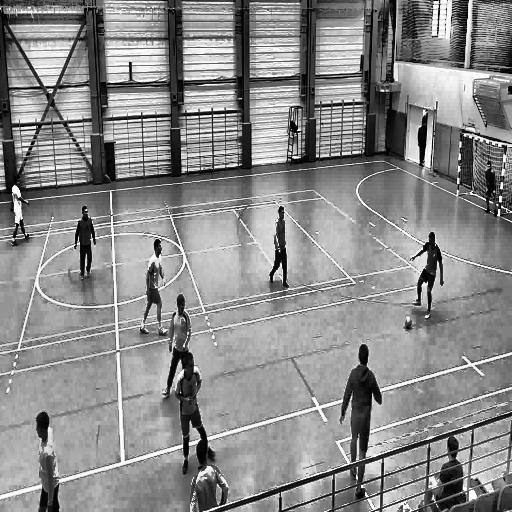ball: (403, 314, 415, 332)
player: (340, 342, 382, 504), (174, 354, 216, 476), (409, 230, 445, 320), (162, 294, 192, 397), (138, 236, 168, 338), (190, 439, 228, 512), (36, 412, 60, 512), (269, 205, 291, 292), (74, 204, 96, 283), (10, 174, 30, 248), (483, 159, 499, 220)
